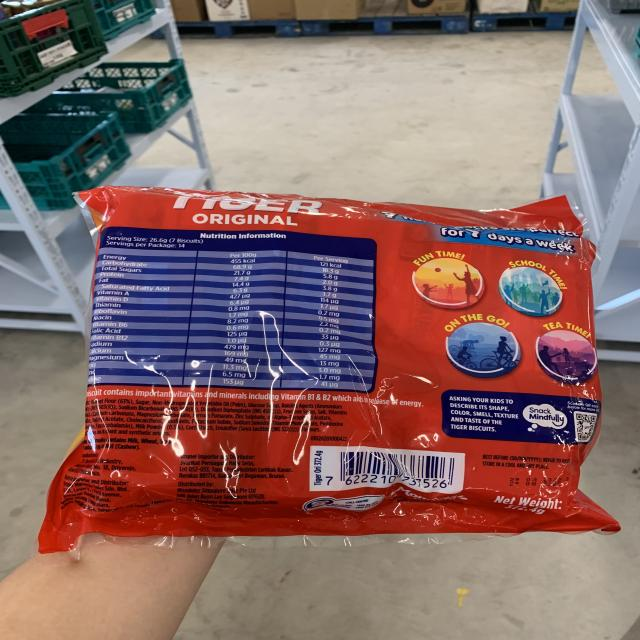object_name: (78, 189, 597, 532)
